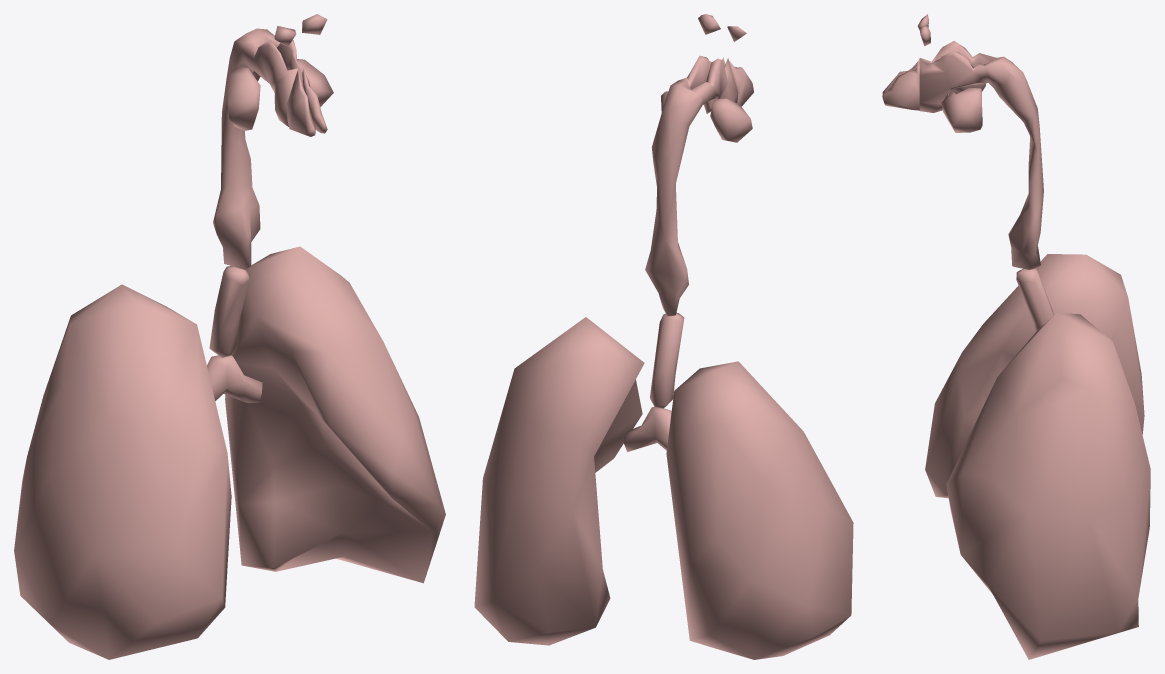
Rendered from pediatric_adolescent_male.respiratory.LOD3.glb.
3 renders of one model, left to right at view 1: azimuth 30°, elevation 25°; view 2: azimuth 150°, elevation 25°; view 3: azimuth 270°, elevation 25°, orthographic. The views are drawn at different scales.
Parts seen in each view (by area): view 1: PEDIATRIC.ADOLESCENT.MALE.RESPIRATORY.LUNG.R, PEDIATRIC.ADOLESCENT.MALE.RESPIRATORY.LUNG.L, PEDIATRIC.ADOLESCENT.MALE.RESPIRATORY.ET2, PEDIATRIC.ADOLESCENT.MALE.RESPIRATORY.TRACHEA, PEDIATRIC.ADOLESCENT.MALE.RESPIRATORY.BB1, PEDIATRIC.ADOLESCENT.MALE.RESPIRATORY.ET1; view 2: PEDIATRIC.ADOLESCENT.MALE.RESPIRATORY.LUNG.R, PEDIATRIC.ADOLESCENT.MALE.RESPIRATORY.LUNG.L, PEDIATRIC.ADOLESCENT.MALE.RESPIRATORY.ET2, PEDIATRIC.ADOLESCENT.MALE.RESPIRATORY.TRACHEA, PEDIATRIC.ADOLESCENT.MALE.RESPIRATORY.BB1, PEDIATRIC.ADOLESCENT.MALE.RESPIRATORY.ET1; view 3: PEDIATRIC.ADOLESCENT.MALE.RESPIRATORY.LUNG.L, PEDIATRIC.ADOLESCENT.MALE.RESPIRATORY.LUNG.R, PEDIATRIC.ADOLESCENT.MALE.RESPIRATORY.ET2, PEDIATRIC.ADOLESCENT.MALE.RESPIRATORY.TRACHEA, PEDIATRIC.ADOLESCENT.MALE.RESPIRATORY.ET1.
Boxes of the visible parts, x1,y1,x2,y2 form: PEDIATRIC.ADOLESCENT.MALE.RESPIRATORY.LUNG.R: [14, 284, 231, 659]; PEDIATRIC.ADOLESCENT.MALE.RESPIRATORY.LUNG.L: [225, 246, 445, 583]; PEDIATRIC.ADOLESCENT.MALE.RESPIRATORY.ET2: [213, 14, 333, 269]; PEDIATRIC.ADOLESCENT.MALE.RESPIRATORY.TRACHEA: [209, 266, 249, 357]; PEDIATRIC.ADOLESCENT.MALE.RESPIRATORY.BB1: [207, 355, 262, 402]; PEDIATRIC.ADOLESCENT.MALE.RESPIRATORY.ET1: [287, 68, 327, 136]; PEDIATRIC.ADOLESCENT.MALE.RESPIRATORY.LUNG.R: [666, 361, 853, 659]; PEDIATRIC.ADOLESCENT.MALE.RESPIRATORY.LUNG.L: [474, 317, 644, 645]; PEDIATRIC.ADOLESCENT.MALE.RESPIRATORY.ET2: [645, 14, 752, 316]; PEDIATRIC.ADOLESCENT.MALE.RESPIRATORY.TRACHEA: [650, 313, 684, 408]; PEDIATRIC.ADOLESCENT.MALE.RESPIRATORY.BB1: [622, 407, 671, 451]; PEDIATRIC.ADOLESCENT.MALE.RESPIRATORY.ET1: [723, 57, 753, 106]; PEDIATRIC.ADOLESCENT.MALE.RESPIRATORY.LUNG.L: [946, 313, 1150, 659]; PEDIATRIC.ADOLESCENT.MALE.RESPIRATORY.LUNG.R: [925, 254, 1144, 498]; PEDIATRIC.ADOLESCENT.MALE.RESPIRATORY.ET2: [918, 14, 1043, 269]; PEDIATRIC.ADOLESCENT.MALE.RESPIRATORY.TRACHEA: [1016, 268, 1053, 331]; PEDIATRIC.ADOLESCENT.MALE.RESPIRATORY.ET1: [882, 59, 919, 110].
Bounding box in the file's own units: 0.2615 × 0.4102 × 0.1772.
